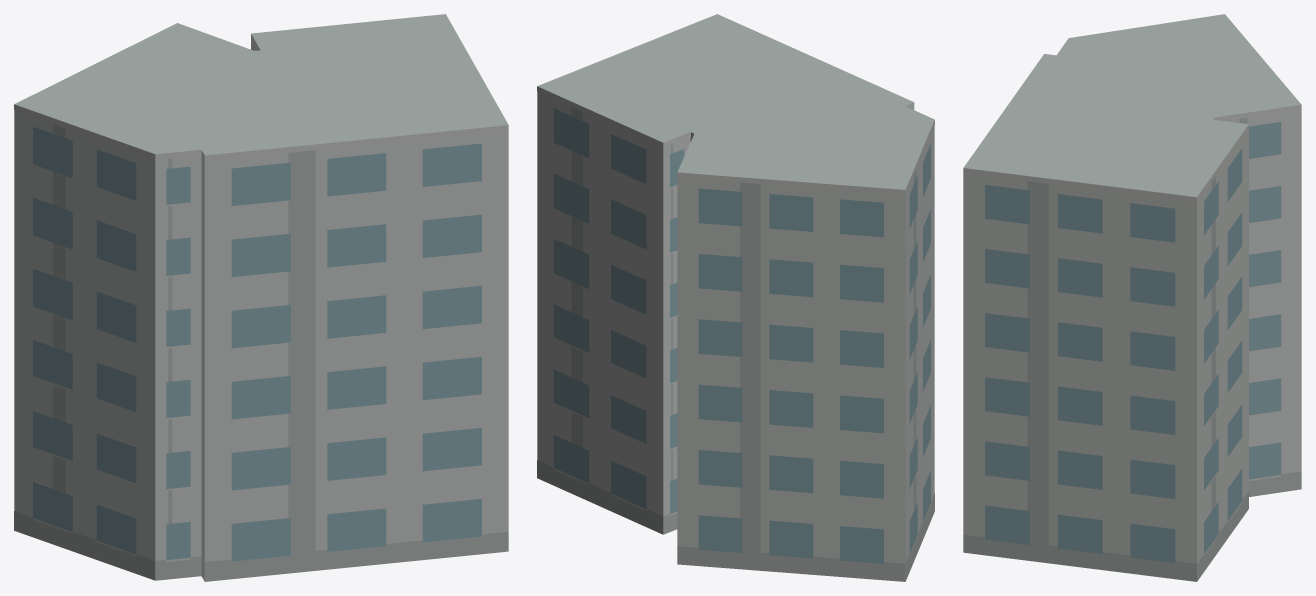
File: survey-upis-32832230.glb
3 views of the same model, side by side, from view 1: azimuth 30°, elevation 25°; view 2: azimuth 150°, elevation 25°; view 3: azimuth 270°, elevation 25° (orthographic). The views are drawn at different scales.
Parts seen in each view (by area): view 1: survey-upis-32832230.tmp; view 2: survey-upis-32832230.tmp; view 3: survey-upis-32832230.tmp.
Part boxes in pixels (bbox=[...]): survey-upis-32832230.tmp: bbox=[14, 14, 508, 581]; survey-upis-32832230.tmp: bbox=[537, 14, 934, 581]; survey-upis-32832230.tmp: bbox=[963, 14, 1301, 581].
Bounding box in the file's own units: 18.7 × 18.3 × 14.6.
